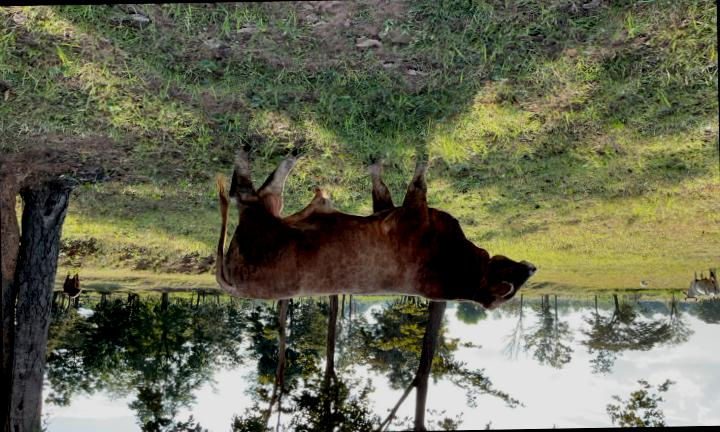Charolais: (216, 149, 536, 310)
